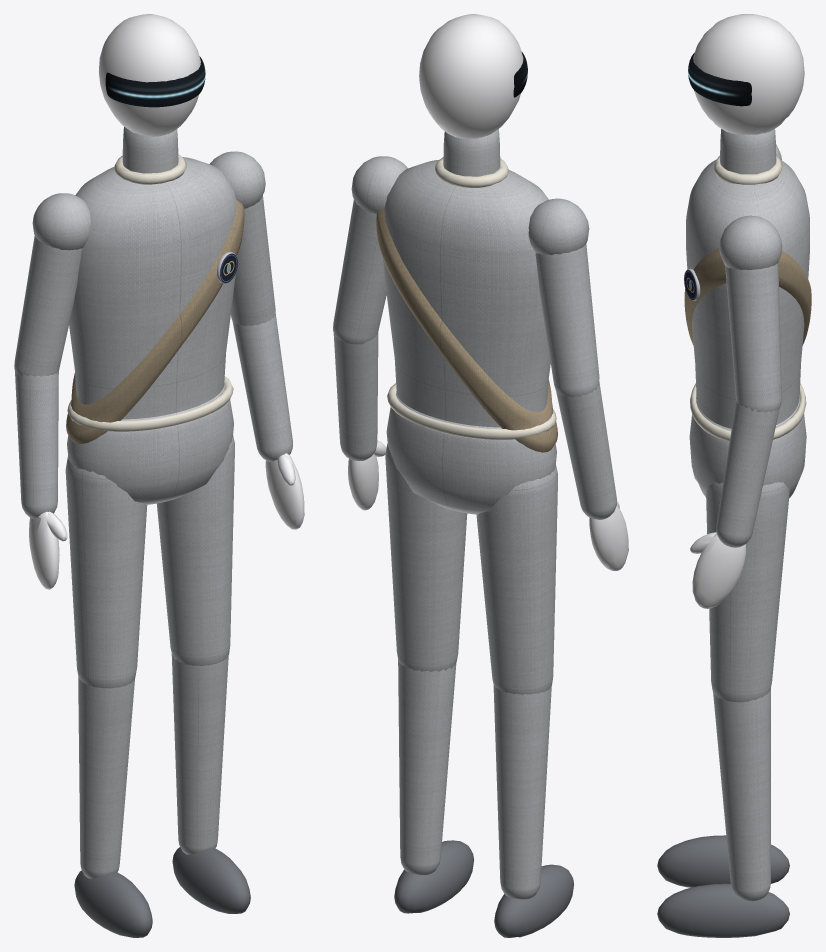
Rendered from liaison.lod1.glb.
3 views of the same model, side by side, from view 1: azimuth 30°, elevation 25°; view 2: azimuth 150°, elevation 25°; view 3: azimuth 270°, elevation 25° (orthographic).
Parts seen in each view (by area): view 1: Avatar · Liaison; view 2: Avatar · Liaison; view 3: Avatar · Liaison.
Boxes of the visible parts, x1,y1,x2,y2 form: Avatar · Liaison: (14, 14, 304, 937); Avatar · Liaison: (333, 14, 628, 937); Avatar · Liaison: (657, 14, 811, 937).
Bounding box in the file's own units: 0.5714 × 1.8 × 0.2839.
7 materials, 4 textured.
